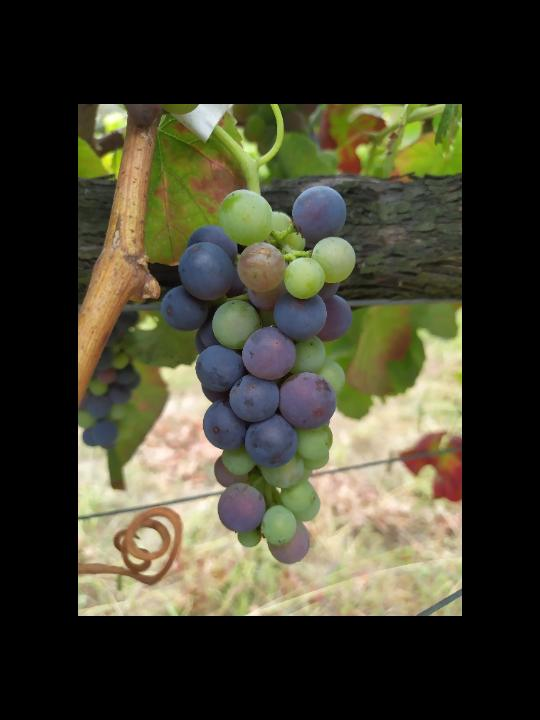grape: (160, 182, 358, 566)
